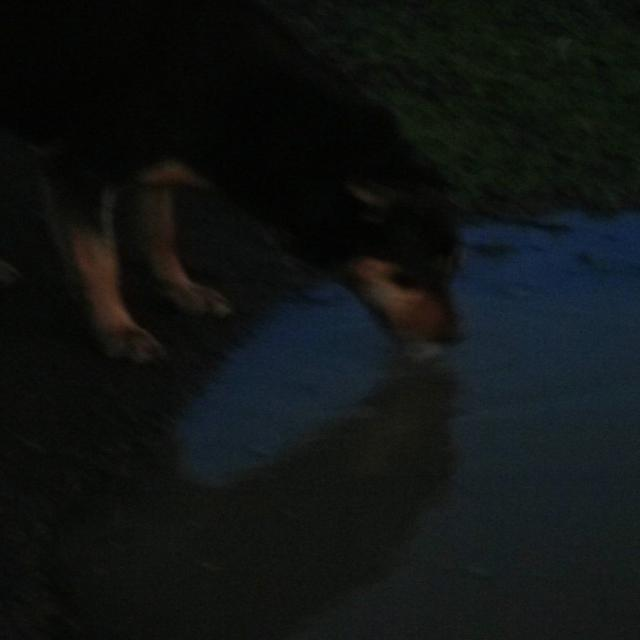Dog: (26, 90, 532, 468)
